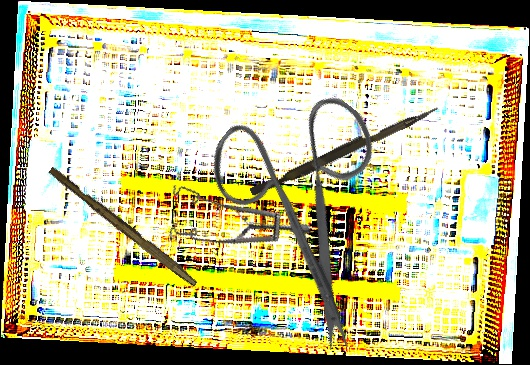Iris Scissors: (160, 56, 467, 358)
Pusher: (249, 98, 440, 202)
Scalpel Handle: (45, 165, 202, 288)
Speculum: (151, 145, 314, 281)
